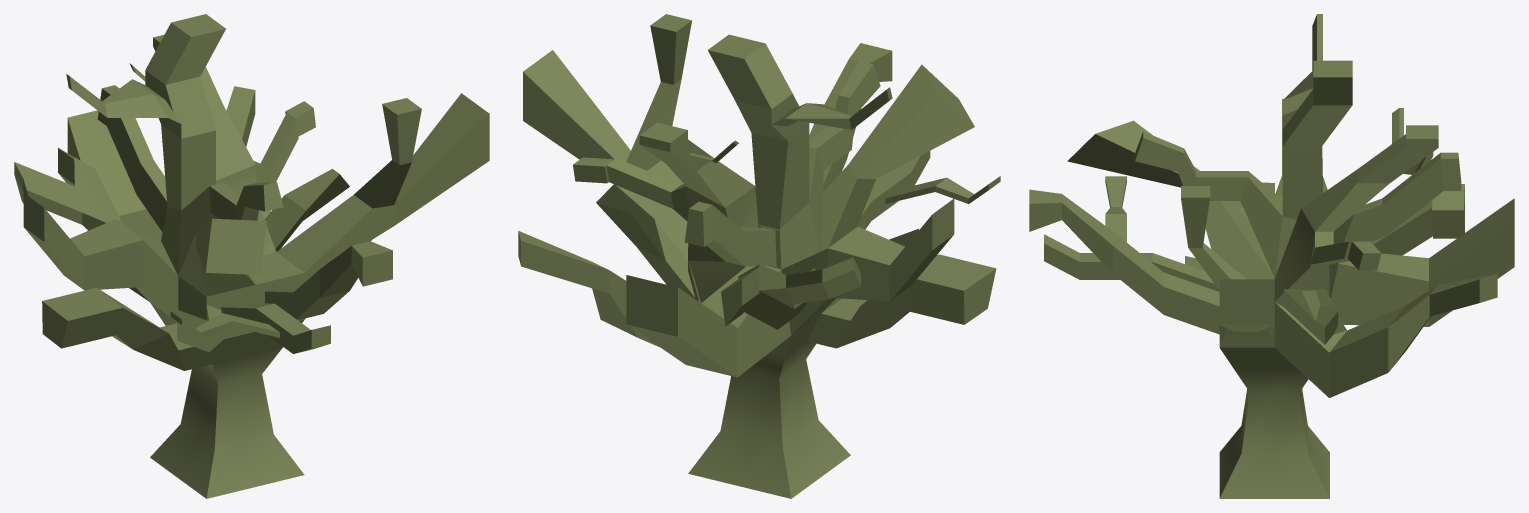
Rendered from Coreaux.fbx.
3 views of the same model, side by side, from view 1: azimuth 30°, elevation 25°; view 2: azimuth 150°, elevation 25°; view 3: azimuth 270°, elevation 25° (orthographic). The views are drawn at different scales.
Parts seen in each view (by area): view 1: pCube148; view 2: pCube148; view 3: pCube148.
Boxes of the visible parts, x1,y1,x2,y2 form: pCube148: (14,14,489,498); pCube148: (518,14,1000,498); pCube148: (1029,14,1514,498).
Size of the model in its own units: 193 by 183 by 198.
